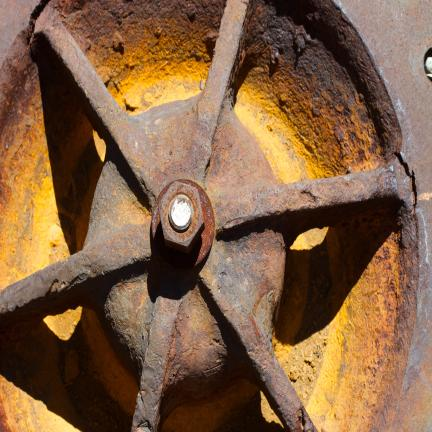besi_tidak_karat: (169, 195, 193, 231)
karat: (35, 0, 251, 208), (36, 7, 144, 188), (204, 272, 316, 431), (0, 224, 150, 329), (214, 160, 412, 233), (194, 0, 249, 179), (133, 295, 179, 431), (152, 179, 214, 268)
